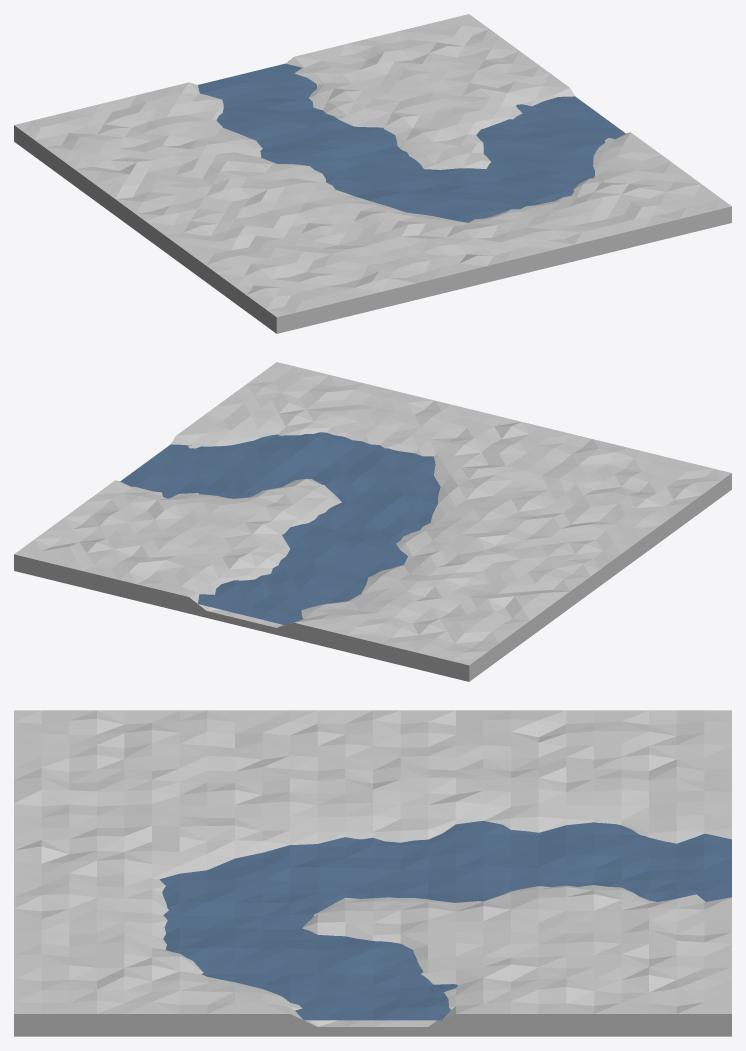
Rendered from WaterTurnTile.fbx.
3 renders of one model, top to bottom at view 1: azimuth 30°, elevation 25°; view 2: azimuth 150°, elevation 25°; view 3: azimuth 270°, elevation 25°, orthographic. The views are drawn at different scales.
Parts seen in each view (by area): view 1: WaterTurnTile.001; view 2: WaterTurnTile.001; view 3: WaterTurnTile.001.
Part boxes in pixels (box(x1,y1,x2,y2)): WaterTurnTile.001: box(14, 14, 731, 333); WaterTurnTile.001: box(14, 362, 731, 681); WaterTurnTile.001: box(14, 710, 731, 1036).
Bounding box in the file's own units: 1000 × 41.16 × 1000.
